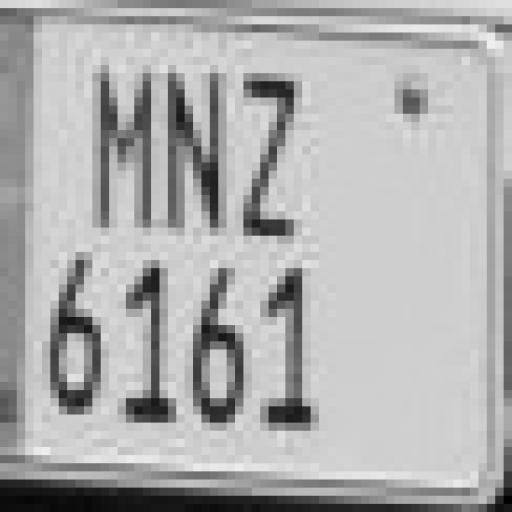1: (113, 250, 180, 426), (259, 255, 321, 434)
6: (41, 248, 105, 422), (187, 259, 249, 428)
M: (96, 67, 158, 240)
N: (165, 71, 226, 234)
Z: (241, 68, 310, 251)
